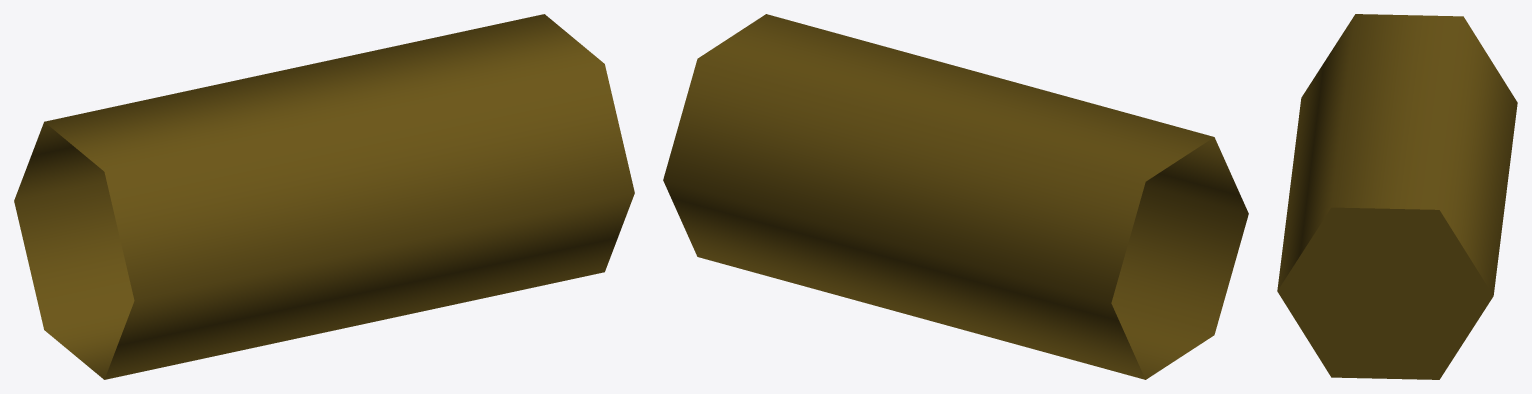
The model's file is original-20.obj.
The picture shows the model from 3 angles, left to right: view 1: azimuth 30°, elevation 25°; view 2: azimuth 150°, elevation 25°; view 3: azimuth 270°, elevation 25°; orthographic projection. The views are drawn at different scales.
Parts seen in each view (by area): view 1: #ID44; view 2: #ID44; view 3: #ID44.
Part boxes in pixels (bbox=[...]): #ID44: bbox=[14, 14, 634, 379]; #ID44: bbox=[663, 14, 1248, 379]; #ID44: bbox=[1277, 14, 1517, 379].
Bounding box in the file's own units: 0.0208 × 0.0083 × 0.0106.
